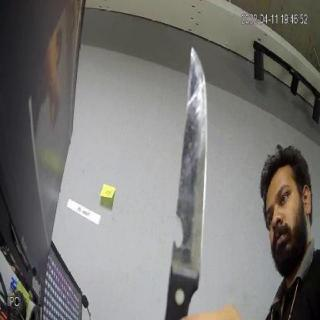knife: (168, 44, 232, 288)
